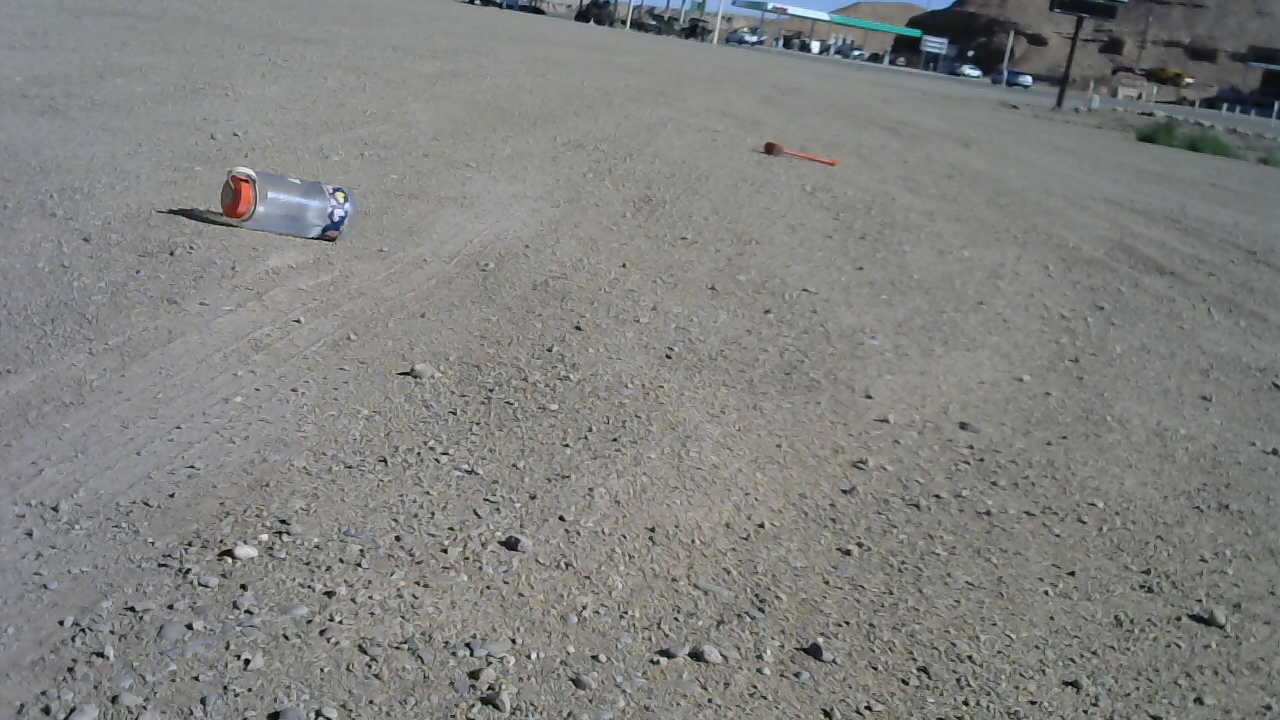bottle: (217, 160, 352, 241)
hammer: (761, 133, 840, 174)
